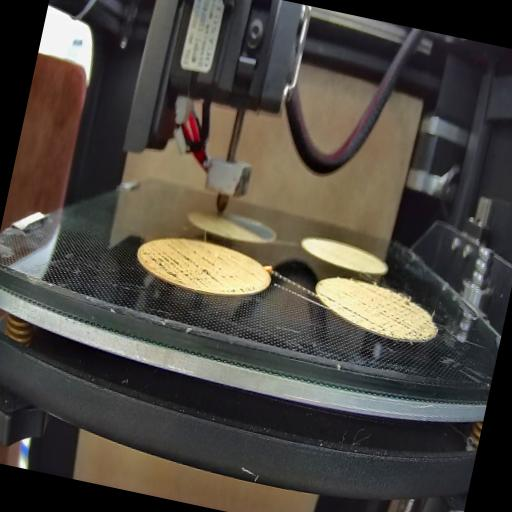under_extrusion: (132, 240, 260, 302), (350, 288, 434, 344), (311, 284, 357, 317)
